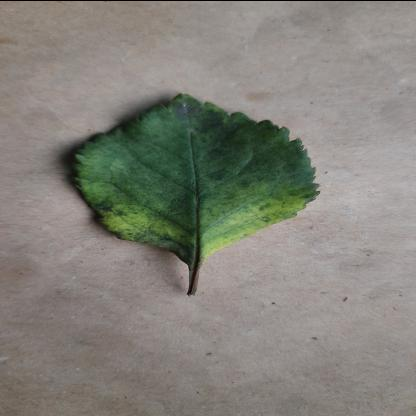downy-mildew: (64, 93, 318, 261)
